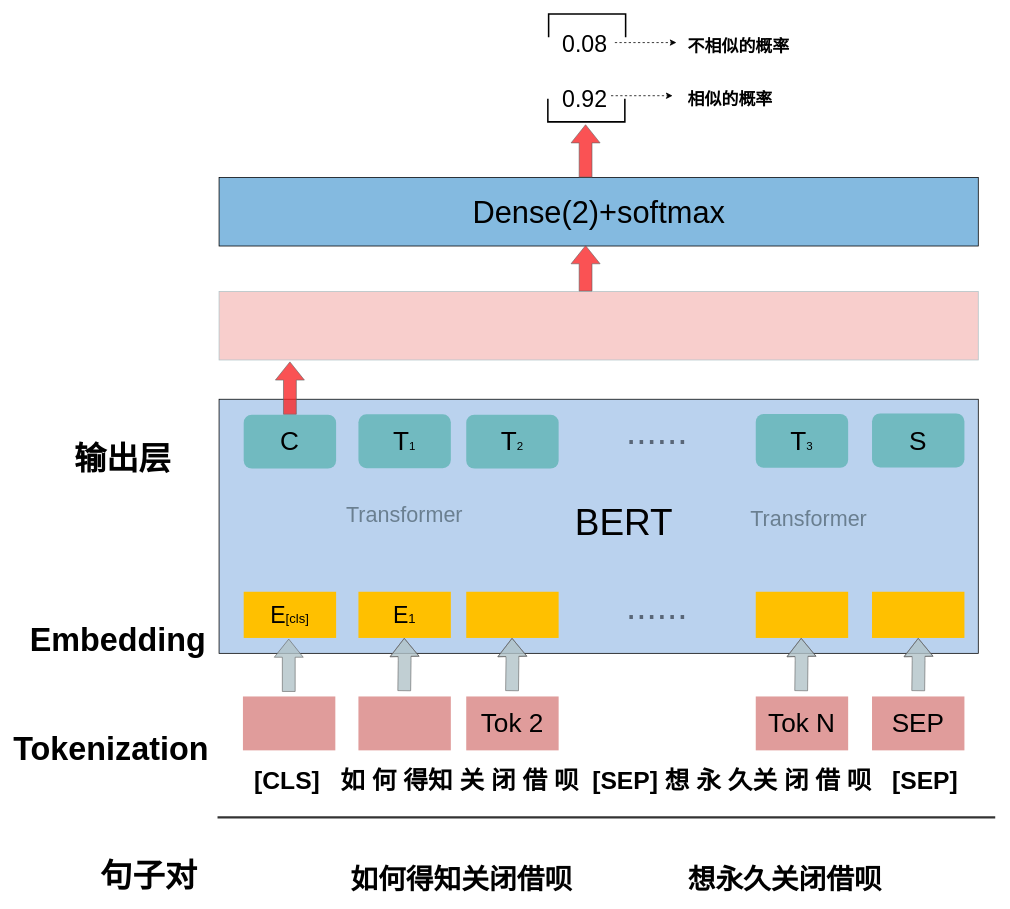
Some shapes in this 1010 by 909 pixel diagram are drawn without their labels. The centre of each missing label's shape, as x and y in pixels:
CLS: the point at 289,723
Dropout(0.1): the point at 598,325
E 2: the point at 512,614
E [sep]: the point at 918,614
E n: the point at 801,614
Tok 1: the point at 404,723
